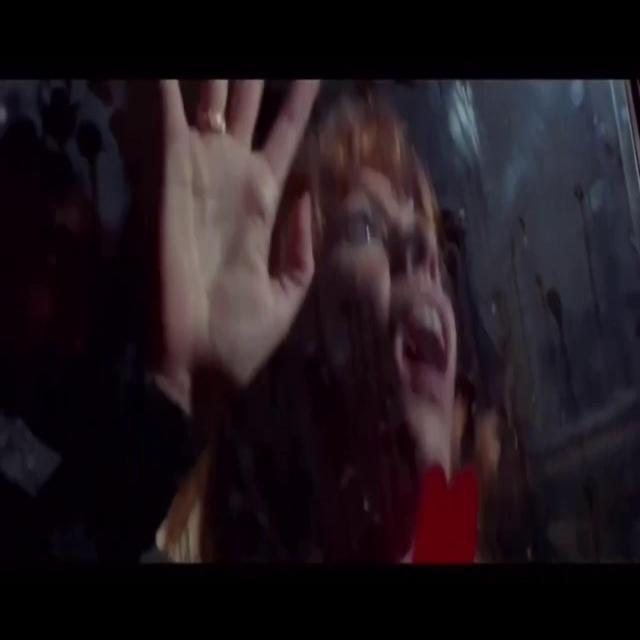flood: (405, 454, 491, 566)
